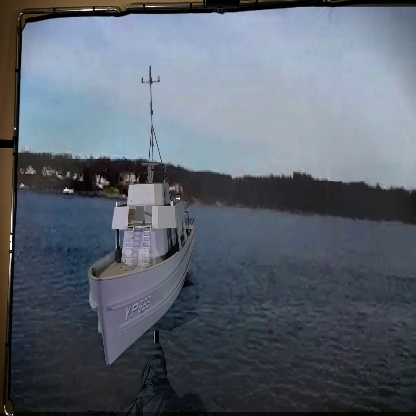YP689: (85, 65, 198, 367)
